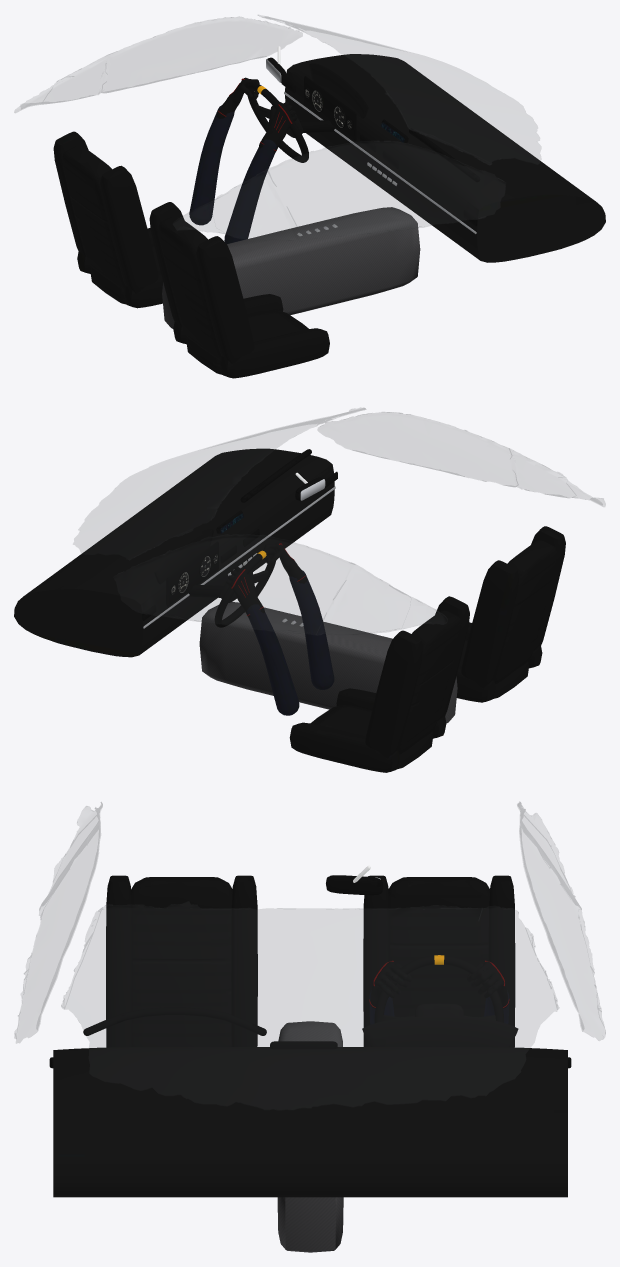
File: mz_monza_cockpit.glb
The picture shows the model from 3 angles, top to bottom: view 1: azimuth 30°, elevation 25°; view 2: azimuth 150°, elevation 25°; view 3: azimuth 270°, elevation 25°; orthographic projection. The views are drawn at different scales.
Visible parts, largest first — view 1: cockpit_shell, window_R, cabin_glass, window_L, hands, steering_wheel; view 2: cockpit_shell, window_L, cabin_glass, window_R, hands, steering_wheel; view 3: cockpit_shell, cabin_glass, window_R, window_L, hands, steering_wheel.
Part boxes in pixels (x1,y1,x2,y2): cockpit_shell: (53, 46, 605, 378); window_R: (211, 129, 505, 240); cabin_glass: (14, 15, 540, 240); window_L: (42, 17, 302, 103); hands: (189, 77, 297, 243); steering_wheel: (247, 83, 308, 162); cockpit_shell: (14, 448, 565, 772); window_L: (113, 529, 410, 634); cabin_glass: (73, 408, 605, 634); window_R: (318, 408, 575, 497); hands: (226, 542, 334, 715); steering_wheel: (214, 548, 275, 627); cockpit_shell: (49, 865, 571, 1252); cabin_glass: (14, 802, 605, 1109); window_R: (15, 807, 110, 1042); window_L: (479, 810, 603, 1040); hands: (369, 960, 509, 1024); steering_wheel: (374, 955, 503, 1023).
Bounding box in the file's own units: 1.91 × 1.05 × 1.75.
Materials: 5 (3 with a texture image).
